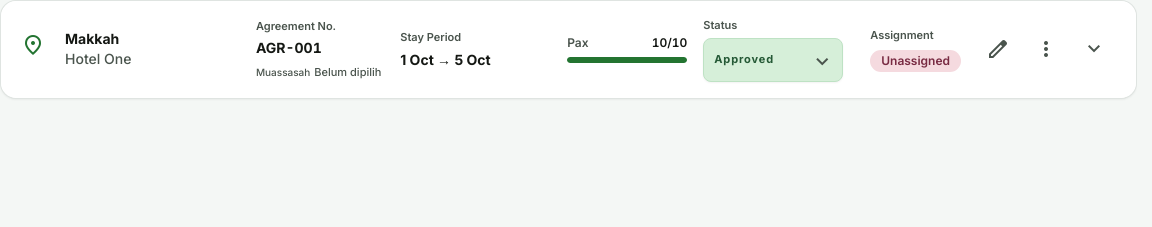
it: AgreementDraftTable › keeps linked groups closed by default and lets the user toggle it
This screenshot has width=1152, height=227.
Expected: the text "Linked Groups (0)" is not shown
Click the button named "Buka detail AGR-001" at (1094, 49), box [1072,27,1116,71]
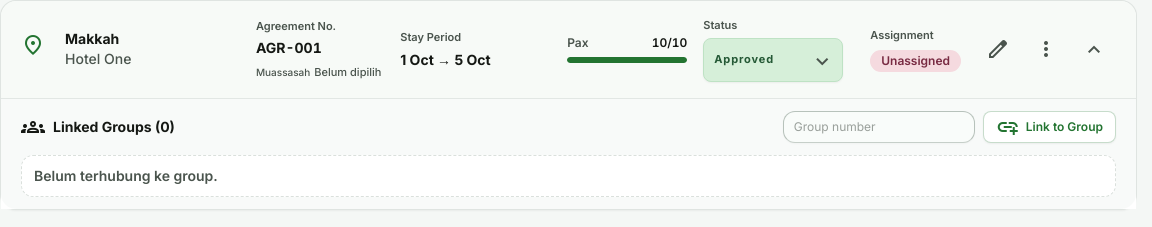
Result: the text "Linked Groups (0)" is shown at [21,114,175,138]
Click the button named "Tutup detail AGR-001" at (1094, 49), box [1072,27,1116,71]
Wait 120 ms
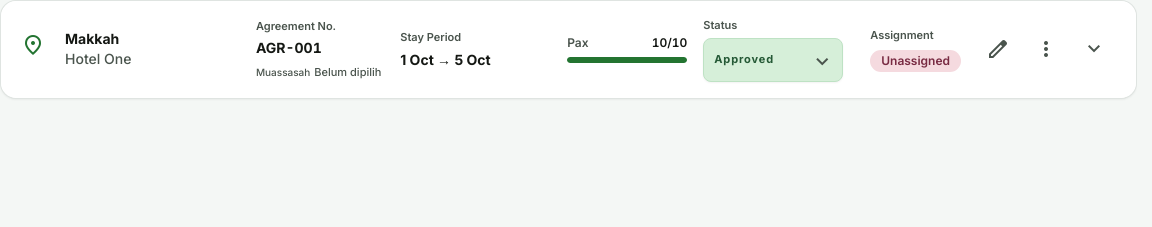
Result: the text "Linked Groups (0)" is gone
